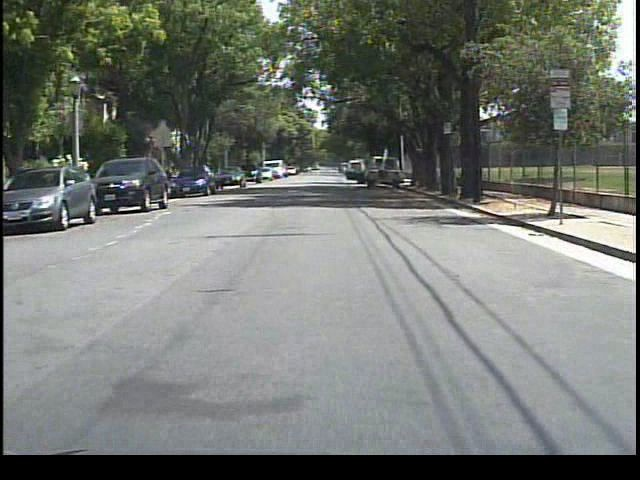person: (351, 161, 367, 186)
